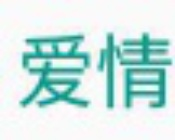TextView: (1, 1, 174, 139)
